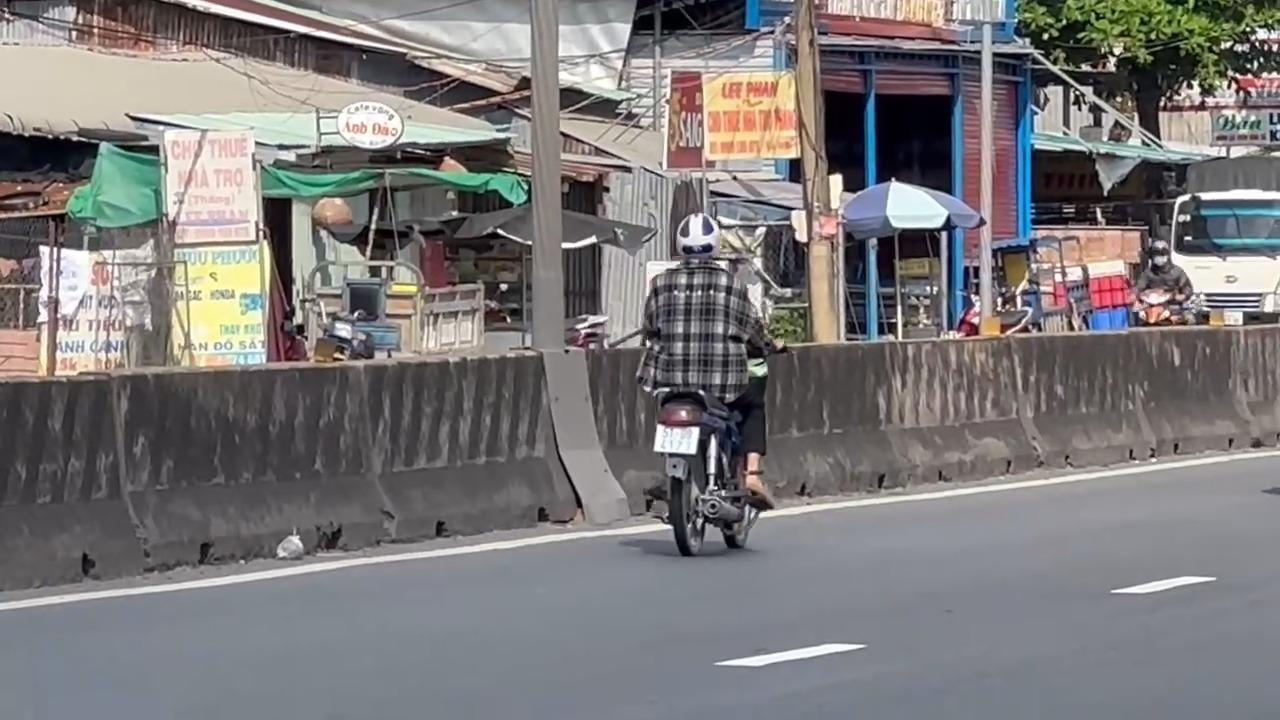bien_so: (652, 422, 700, 455)
